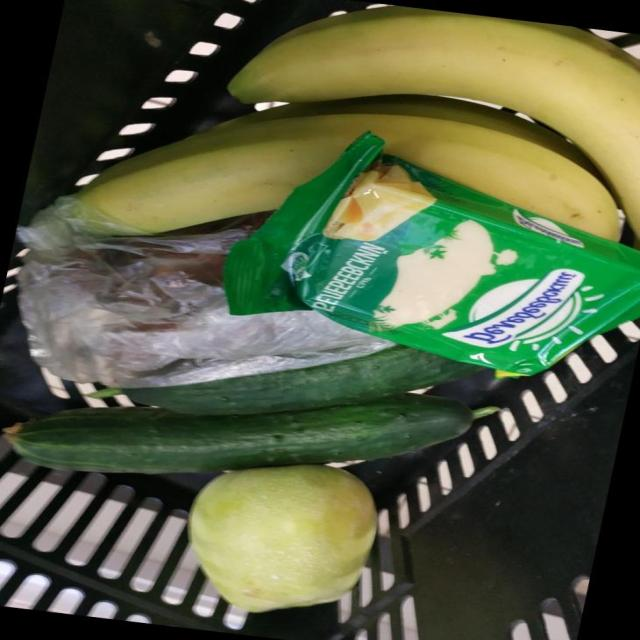apple: (120, 231, 327, 640)
banana: (199, 50, 557, 147), (373, 23, 640, 29)
cheese: (314, 126, 640, 314)
cucumber: (185, 180, 427, 555), (142, 207, 347, 623)
